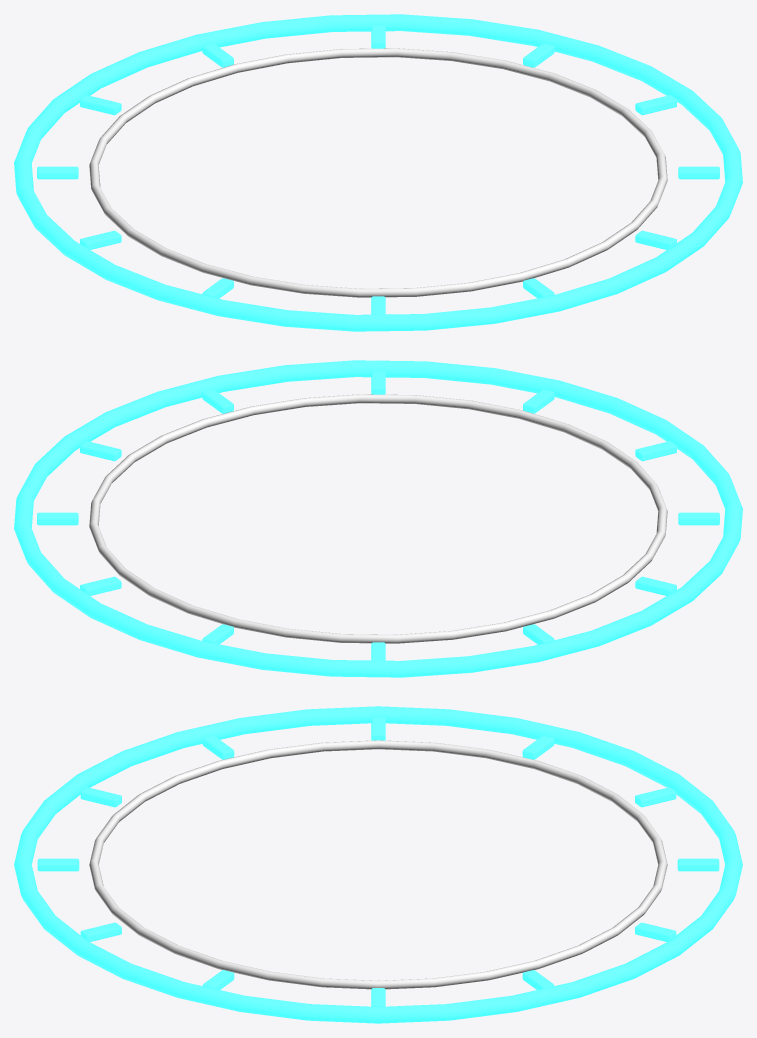
File: SM_RuneRing.glb
3 views of the same model, one above another, from view 1: azimuth 30°, elevation 25°; view 2: azimuth 150°, elevation 25°; view 3: azimuth 270°, elevation 25° (orthographic).
Visible parts, largest first — view 1: SM_RuneRing; view 2: SM_RuneRing; view 3: SM_RuneRing.
Boxes of the visible parts, bbox=[...] form: SM_RuneRing: bbox=[14, 14, 742, 331]; SM_RuneRing: bbox=[14, 360, 742, 677]; SM_RuneRing: bbox=[14, 706, 742, 1023].
Size of the model in its own units: 1.23 by 0.03 by 1.23.
